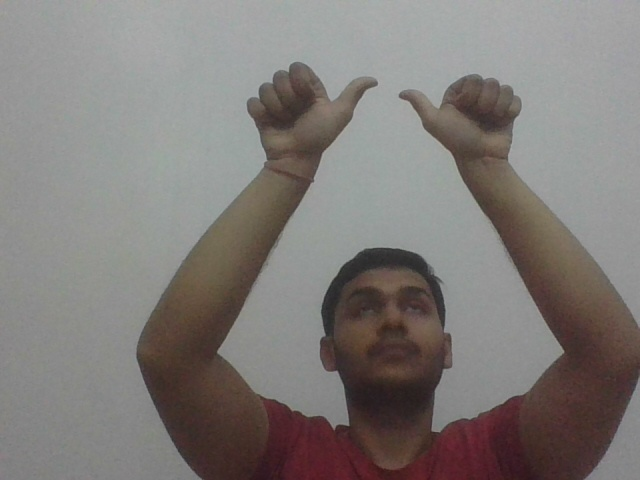A: (238, 48, 527, 167)
